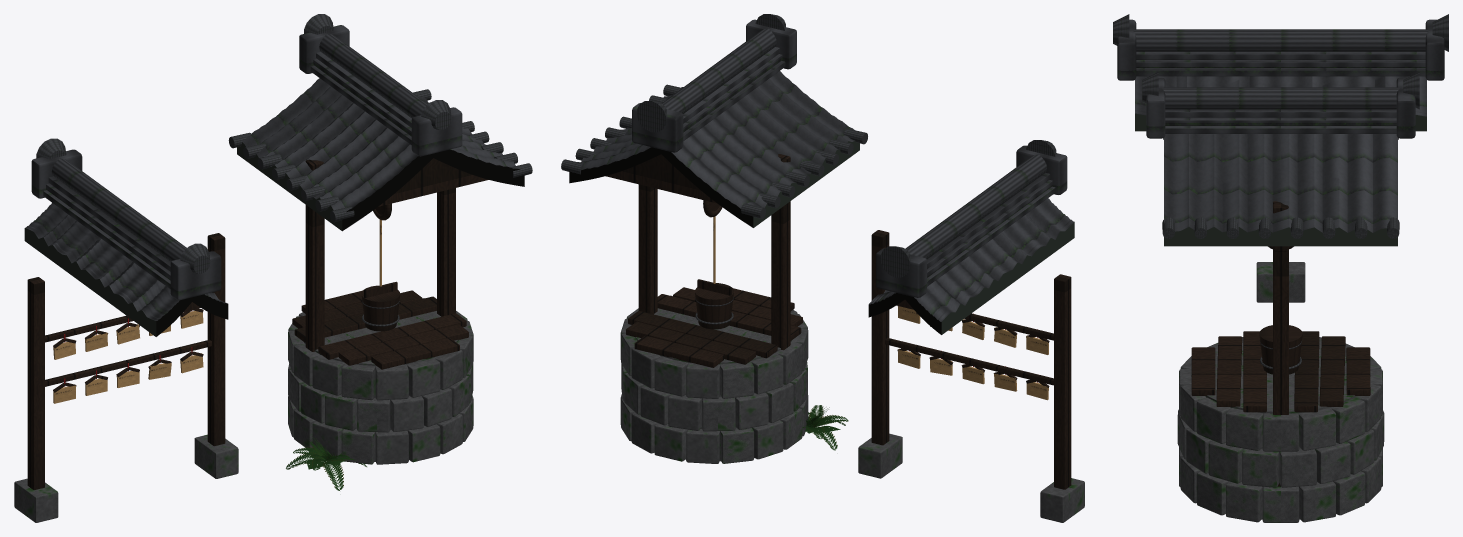
File: Prop_EmaRackAndWell.fbx
The picture shows the model from 3 angles, left to right: view 1: azimuth 30°, elevation 25°; view 2: azimuth 150°, elevation 25°; view 3: azimuth 270°, elevation 25°; orthographic projection. The views are drawn at different scales.
Parts seen in each view (by area): view 1: Prop_EmaRackAndWell; view 2: Prop_EmaRackAndWell; view 3: Prop_EmaRackAndWell.
Boxes of the visible parts, x1,y1,x2,y2 form: Prop_EmaRackAndWell: (14,14,532,522); Prop_EmaRackAndWell: (561,14,1084,522); Prop_EmaRackAndWell: (1113,14,1448,522).
Size of the model in its own units: 4.29 by 3.44 by 2.47.
